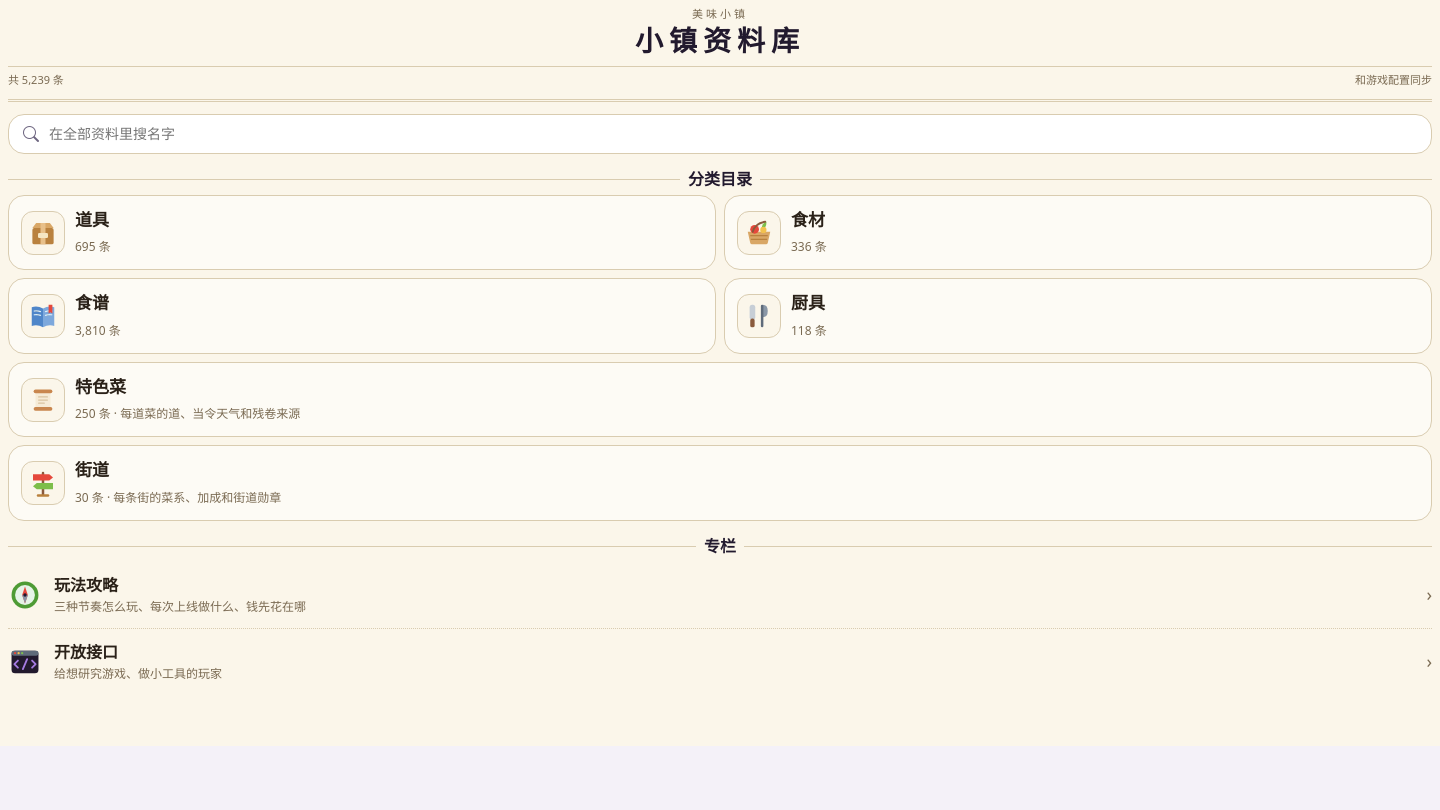
Test: 游戏资料首页（问题记录 142） › 全局搜索在各类名字里找，结果写类目、点进详情
The width and height of the screenshot is (1440, 810).
Type "松露" into the search field with test id "wiki-home-q" at (732, 134), box [47,122,1417,145]
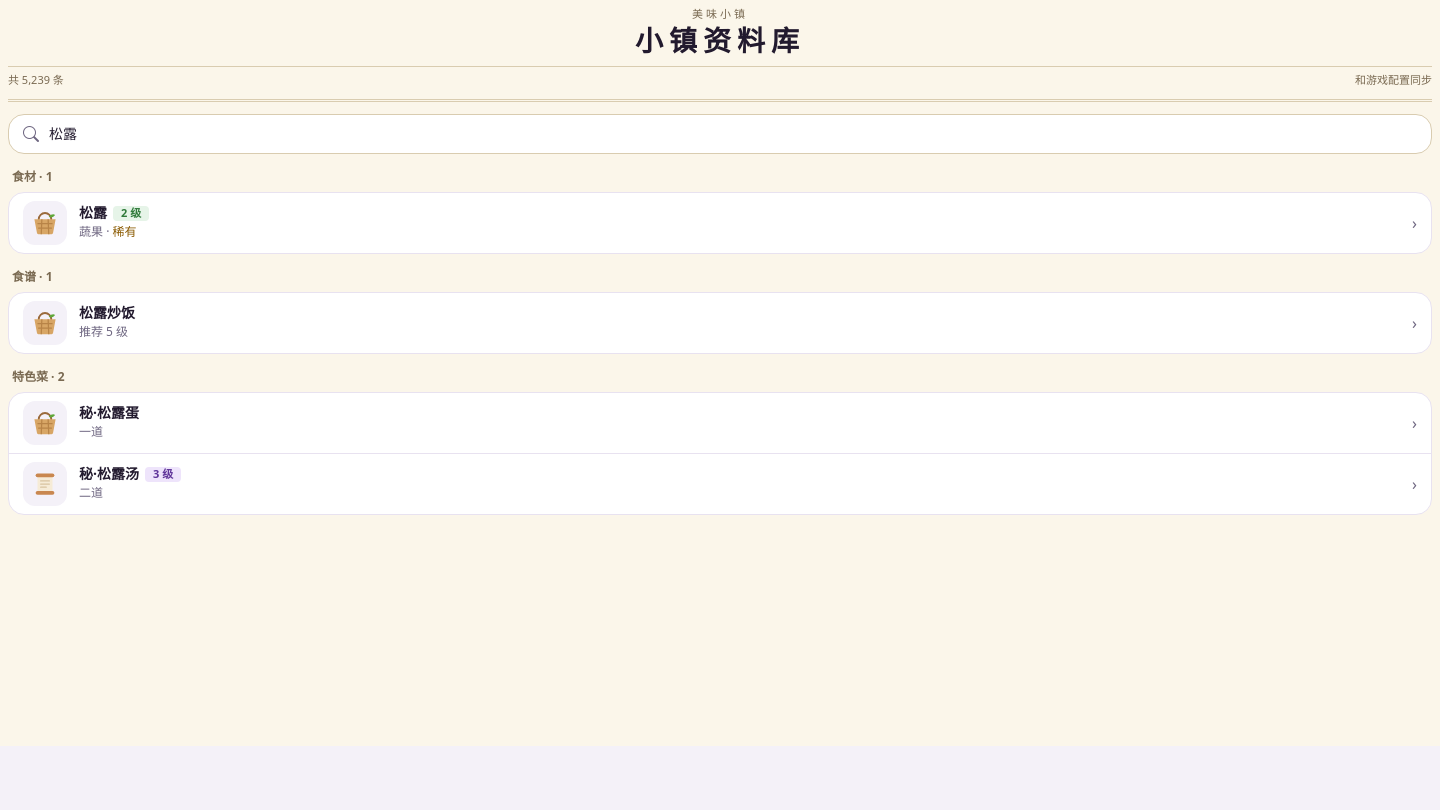
Now the link with test id "wiki-hit-mysterious-8" shows "二道", box [9,453,1431,514]
Now the text with class "dt-wiki-group" reads "食材 · 1", box [12,168,52,185]
Now the text with class "dt-wiki-group" reads "食谱 · 1", box [12,268,52,285]
